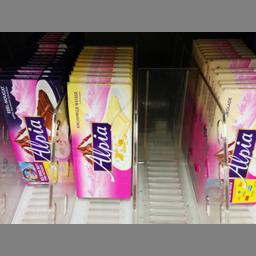chocolate: (66, 81, 132, 202), (0, 78, 73, 185), (206, 90, 255, 207)
